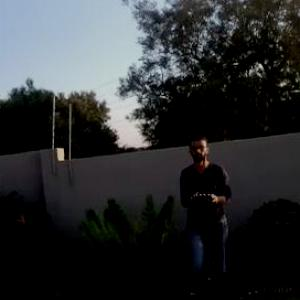follow: (171, 134, 235, 299)
null: (87, 290, 164, 299)
